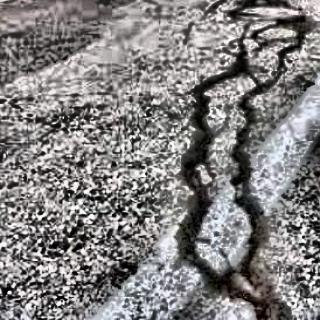alligator-crack: (235, 22, 299, 52)
crack: (176, 54, 298, 320), (202, 0, 228, 26)
pothole: (280, 11, 317, 40), (234, 0, 304, 12)
